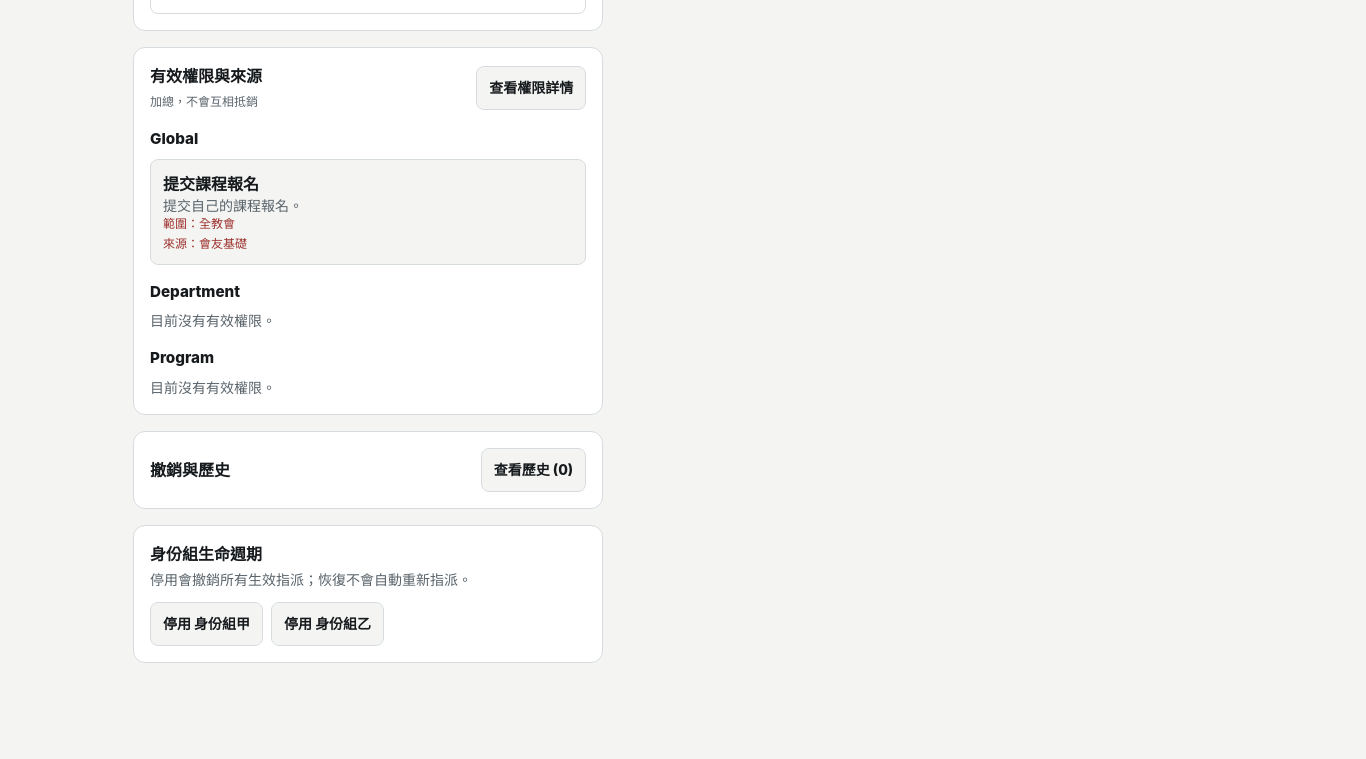
Test: AccountAccessPanel › renders each authorized lifecycle role with its server impact
(page scrolled)
Check: the button "停用 身份組甲" is shown, box [150,602,263,646]
Click the button "停用 身份組乙" at (328, 624), box [271,602,384,646]
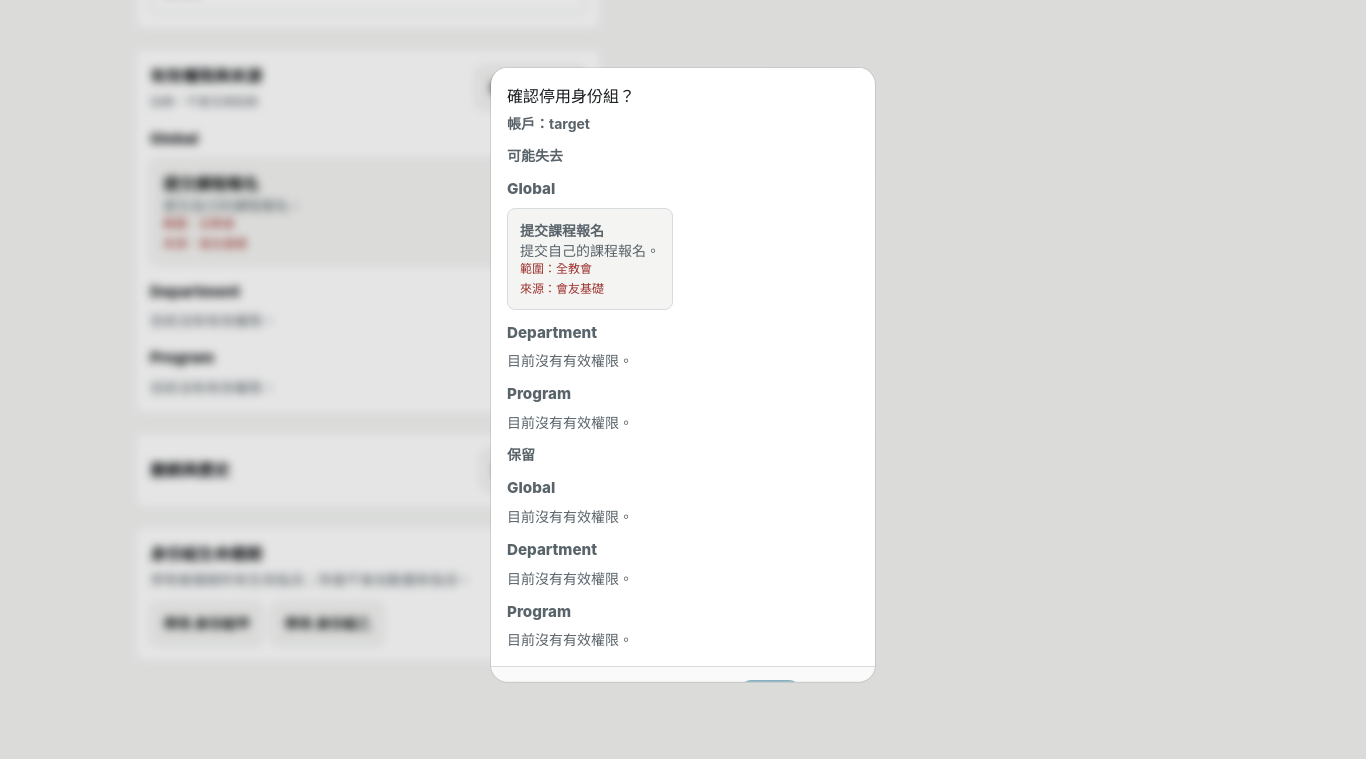
Check: the heading "Global" below "加總，不會互相抵銷" is shown, box [150,129,198,148]
Check: the heading "確認停用身份組？" is shown, box [507,84,635,108]
